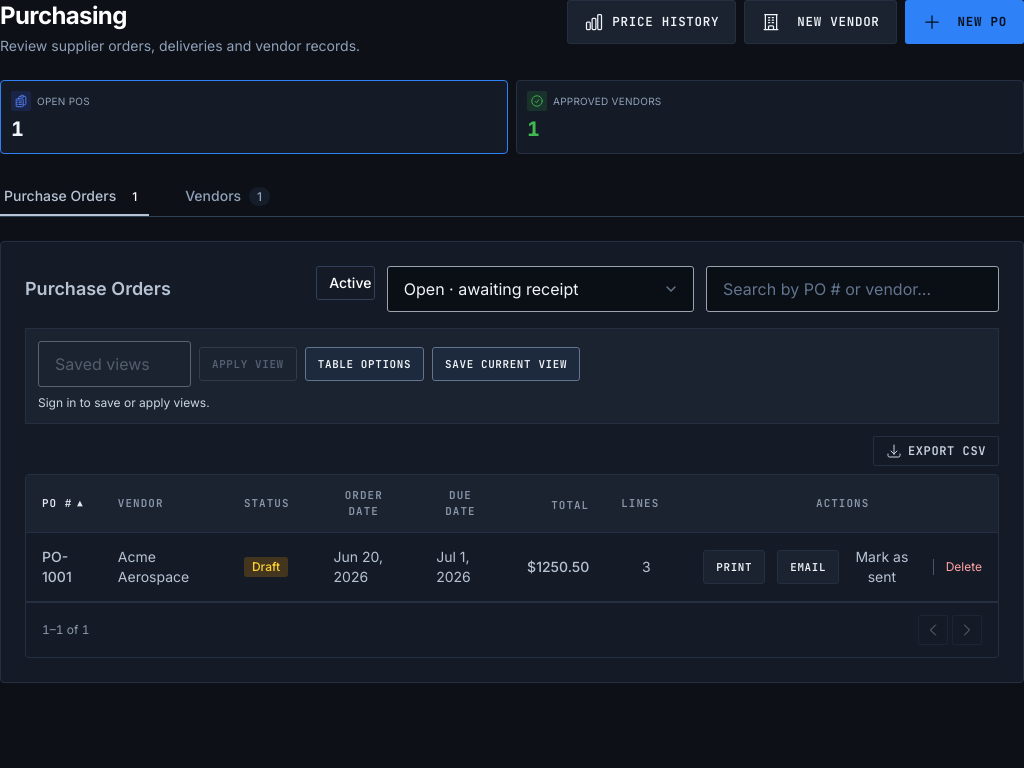
Purchasing — Create Vendor unsaved-changes guard › does NOT prompt when closing a clean (untouched) form
Check: the heading "Purchasing" is shown, box 0,0 -> 127,32
Click the button "New Vendor" at (820, 22), box 744,0 -> 897,44
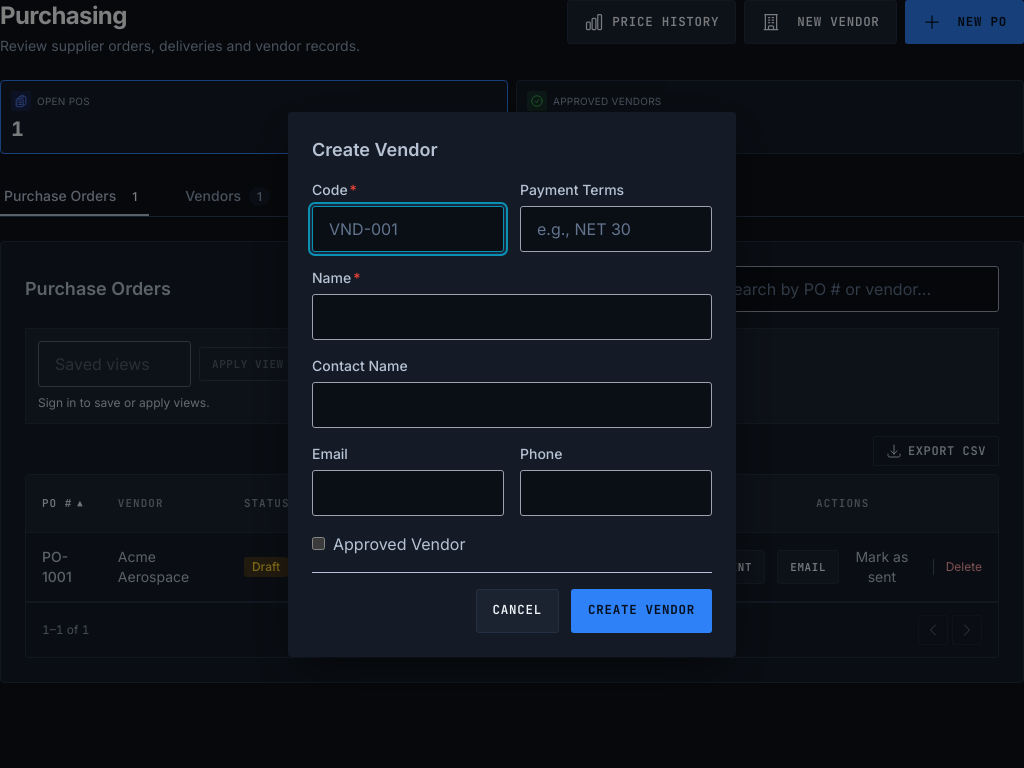
Click the button "Cancel" at (517, 610), box 476,588 -> 559,632
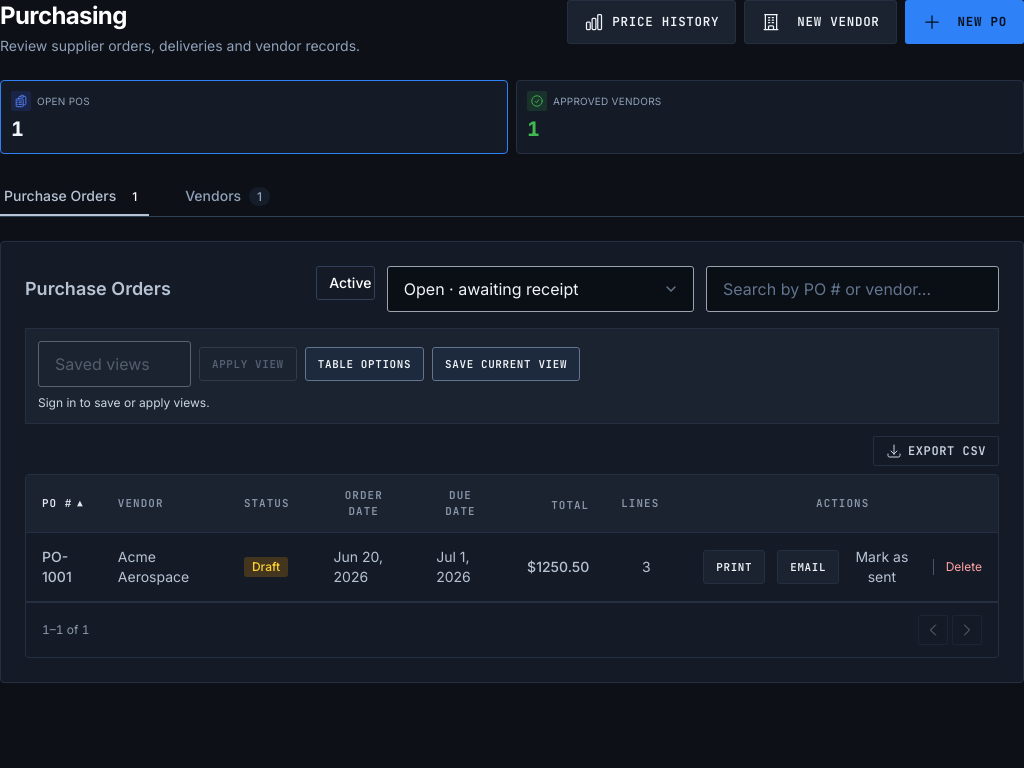
Check: the heading "Create Vendor" is gone
